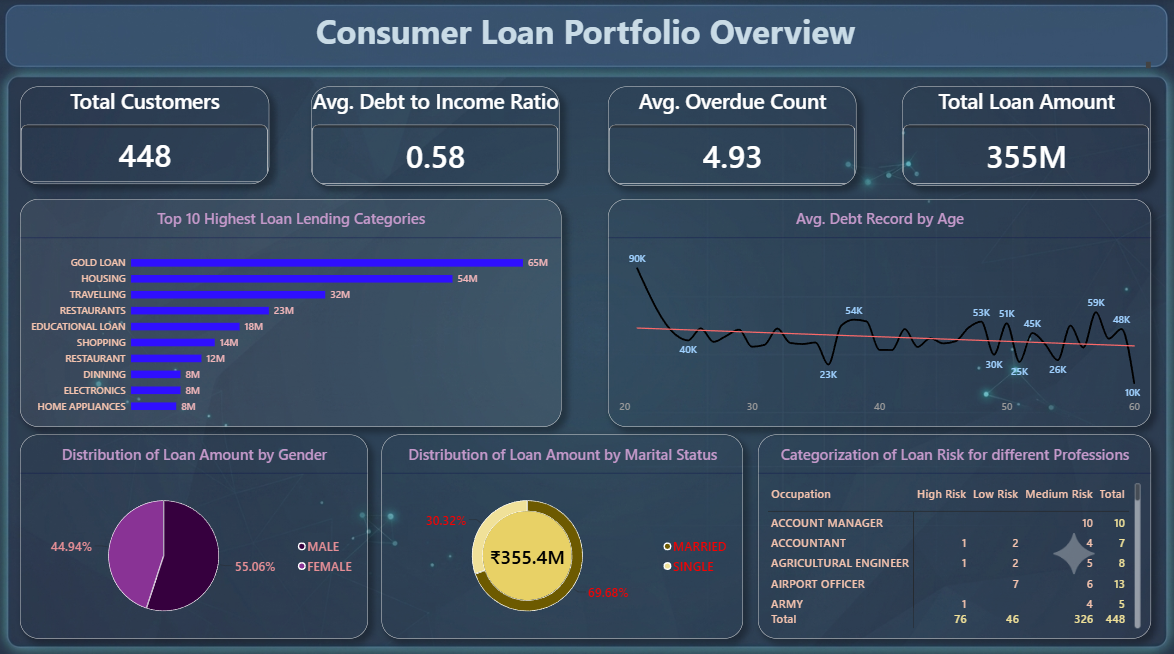

Layout of this report page (visuals, bound fields, positions):
{"tool":"powerbi","page":{"name":"Page 1","canvas":[1920,1080],"ordinal":0},"visuals":[{"type":"cardVisual","title":"Total Customers","fields":{"Data":["loan.Total_Customers"]},"box":[39,143.9,405,158.6],"z":0},{"type":"pieChart","title":"Distribution of Loan Amount by Gender","fields":{"Category":["loan.Gender"],"Y":["Sum(loan.Loan Amount)"]},"box":[39,710,566,331.8],"z":1000},{"type":"cardVisual","title":"Total Loan Amount","fields":{"Data":["loan.Total_Loan_Amount"]},"box":[1473.6,143.9,404.1,161],"z":2000},{"type":"barChart","title":"Top 10 Highest Loan Lending Categories","fields":{"Category":["loan.Loan Category"],"Y":["loan.Total_Loan_Amount"]},"box":[39,326.9,880.8,370.9],"z":3000},{"type":"cardVisual","title":"Avg. Debt to Income Ratio","fields":{"Data":["loan.Debt_to_Income_Ratio"]},"box":[513.4,142.8,404.1,161],"z":4000},{"type":"cardVisual","title":"Avg. Overdue Count","fields":{"Data":["loan.Average_Overdue_Count"]},"box":[995.4,143.9,404.1,161],"z":5000},{"type":"lineChart","title":"Avg. Debt Record by Age","fields":{"Category":["loan.Age"],"Y":["Avg(loan. Debt Record)"]},"box":[995.4,326.9,883.2,370.9],"z":6000},{"type":"donutChart","title":"Distribution of Loan Amount by Marital Status","fields":{"Category":["loan.Marital Status"],"Y":["Sum(loan.Loan Amount)"]},"box":[627,710,588,331.8],"z":7000},{"type":"pivotTable","title":"Categorization of Loan Risk for different Professions","fields":{"Columns":["loan.Risk_Category"],"Rows":["loan.Occupation"],"Values":["Count(loan.Customer_ID)"]},"box":[1239.4,710,639.2,331.8],"z":8000},{"type":"textbox","title":"Consumer Loan Portfolio Overview","box":[39,17.1,1839.6,97.6],"z":10000}]}

Visuals, with their boxes in screenshot pixels (x1, y1, x2, y2), scaled from the page's 1920x1080 canvas onto the 1174x654 screenshot:
"Total Customers" cardVisual: x1=24 y1=87 x2=271 y2=183
"Distribution of Loan Amount by Gender" pieChart: x1=24 y1=430 x2=370 y2=631
"Total Loan Amount" cardVisual: x1=901 y1=87 x2=1148 y2=185
"Top 10 Highest Loan Lending Categories" barChart: x1=24 y1=198 x2=562 y2=423
"Avg. Debt to Income Ratio" cardVisual: x1=314 y1=86 x2=561 y2=184
"Avg. Overdue Count" cardVisual: x1=609 y1=87 x2=856 y2=185
"Avg. Debt Record by Age" lineChart: x1=609 y1=198 x2=1149 y2=423
"Distribution of Loan Amount by Marital Status" donutChart: x1=383 y1=430 x2=743 y2=631
"Categorization of Loan Risk for different Professions" pivotTable: x1=758 y1=430 x2=1149 y2=631
"Consumer Loan Portfolio Overview" textbox: x1=24 y1=10 x2=1149 y2=69
